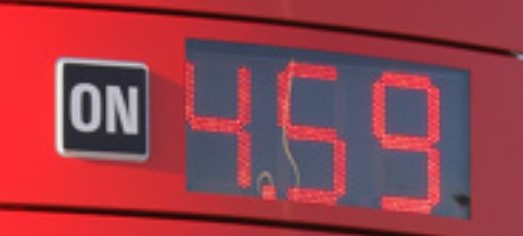digits: (174, 36, 258, 200), (362, 63, 450, 214), (265, 50, 350, 206)
